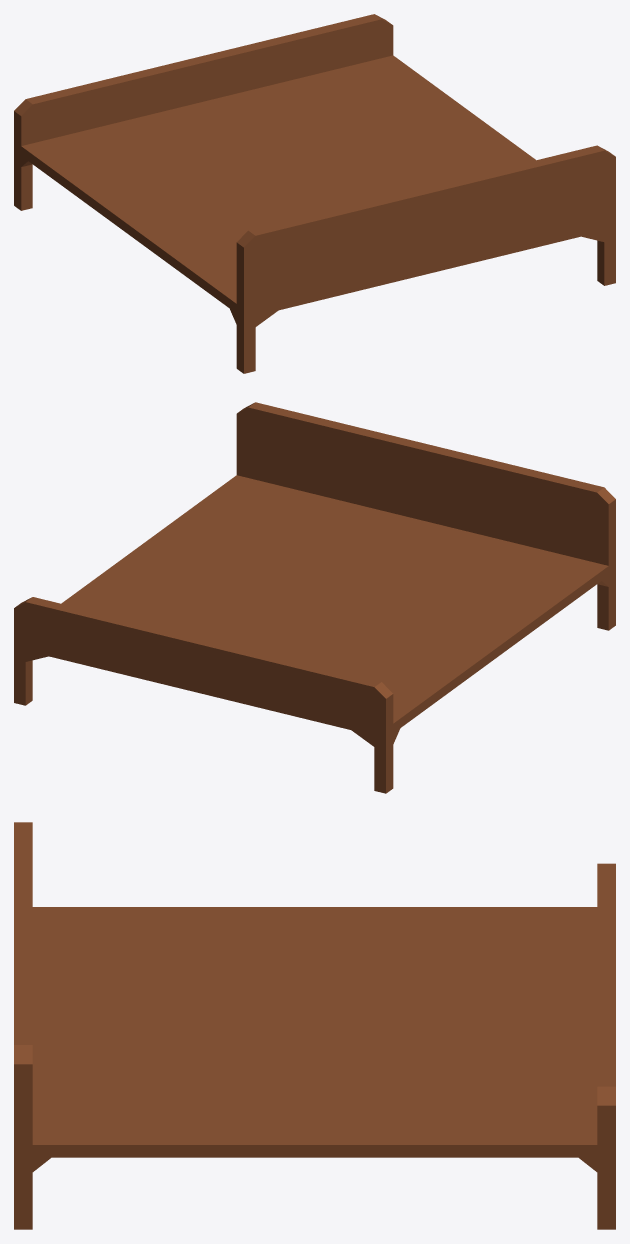
File: bed02.gltf
The picture shows the model from 3 angles, top to bottom: view 1: azimuth 30°, elevation 25°; view 2: azimuth 150°, elevation 25°; view 3: azimuth 270°, elevation 25°; orthographic projection. The views are drawn at different scales.
Visible parts, largest first — view 1: Cube; view 2: Cube; view 3: Cube.
Boxes of the visible parts, left/top/right/bottom form: Cube: left=14, top=14, right=615, bottom=373; Cube: left=14, top=402, right=615, bottom=793; Cube: left=14, top=822, right=615, bottom=1229.
Bounding box in the file's own units: 2 × 0.695 × 2.14.
1 material, 1 textured.
